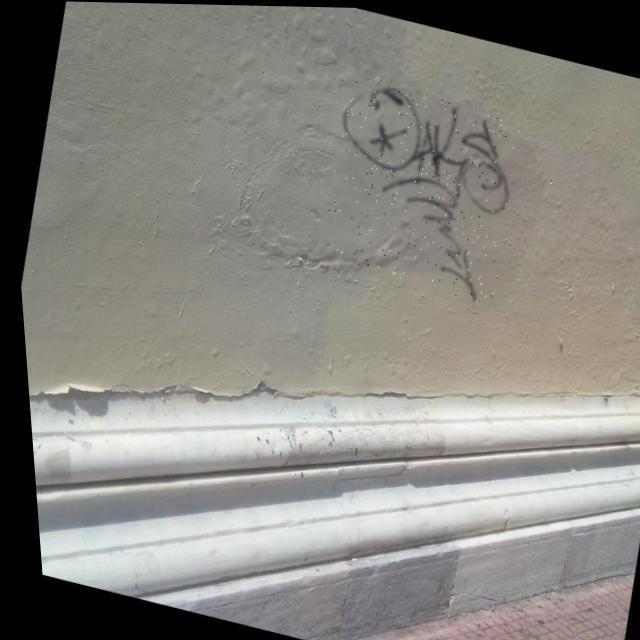-: (304, 74, 530, 305)
